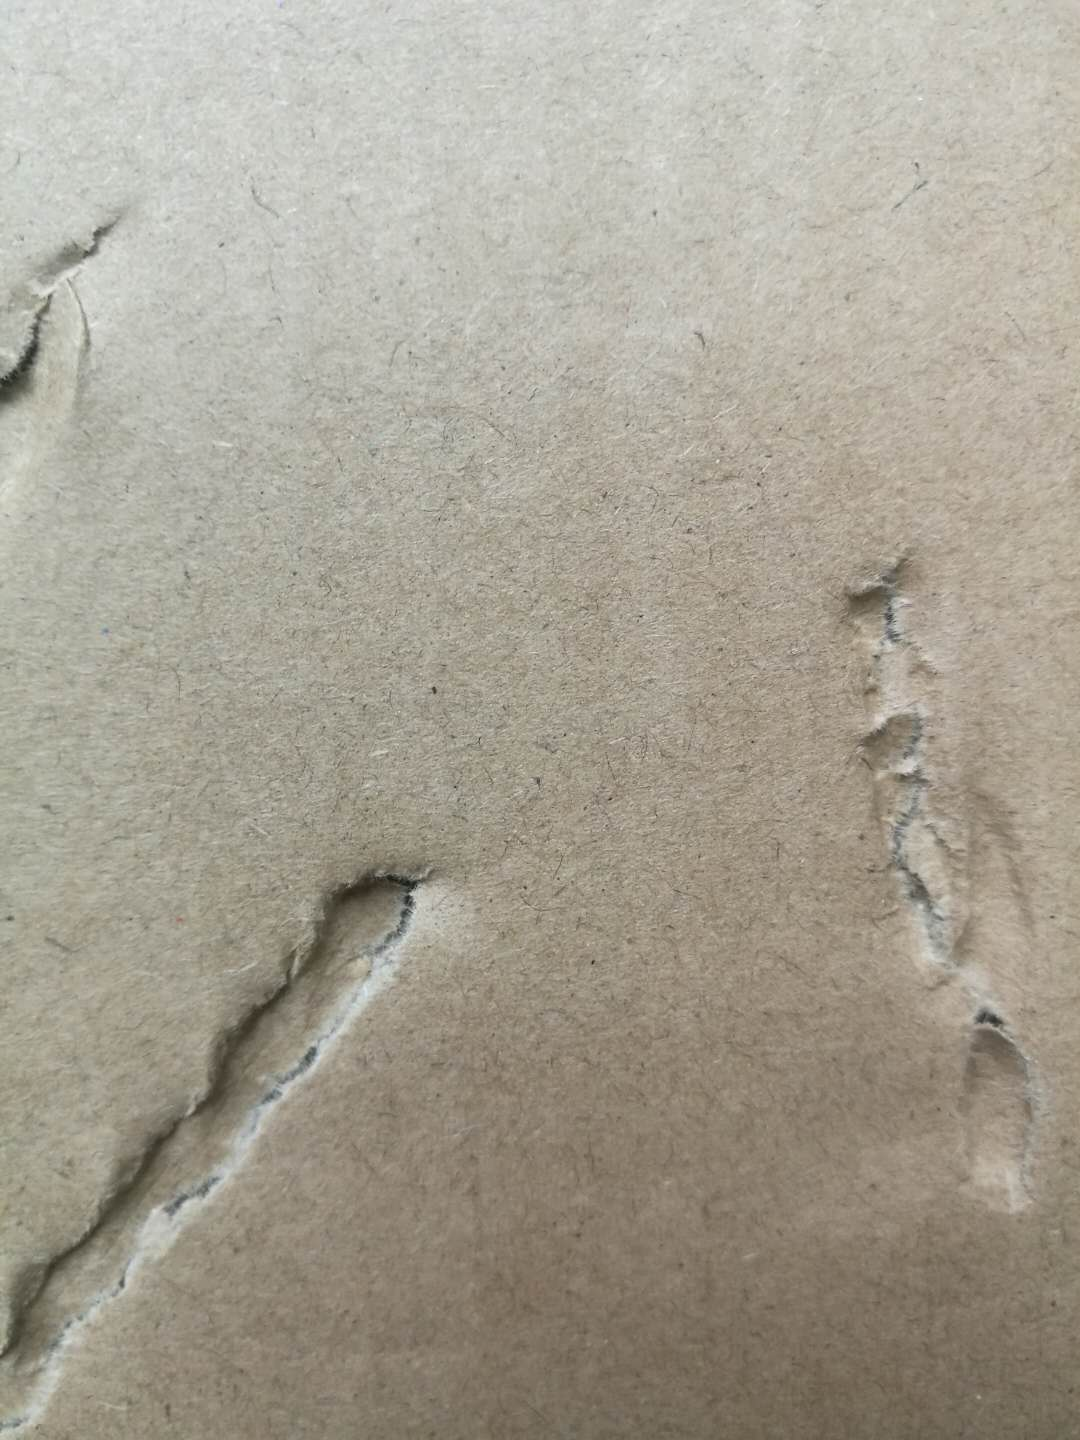defect: (1, 829, 459, 1439), (799, 516, 1080, 1244), (1, 173, 157, 498)
